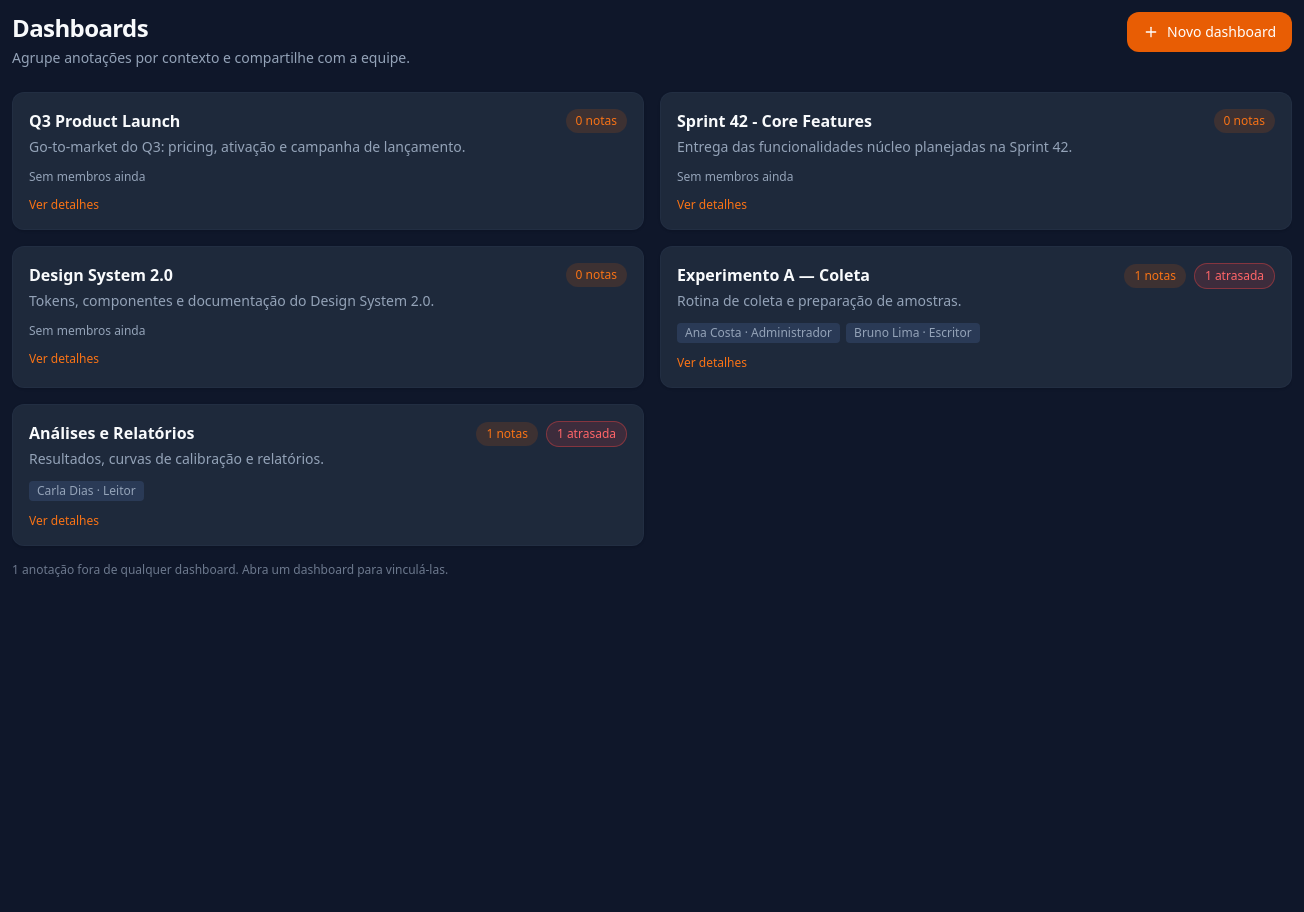
Test: Dashboards — lista de cards › abre o card, vincula uma nota e remove o vínculo
Note: No escopo de trabalho o card começa fechado: "Ver detalhes".
Click the button "Experimento A — Coleta" at (774, 275), box [677, 263, 1116, 311]
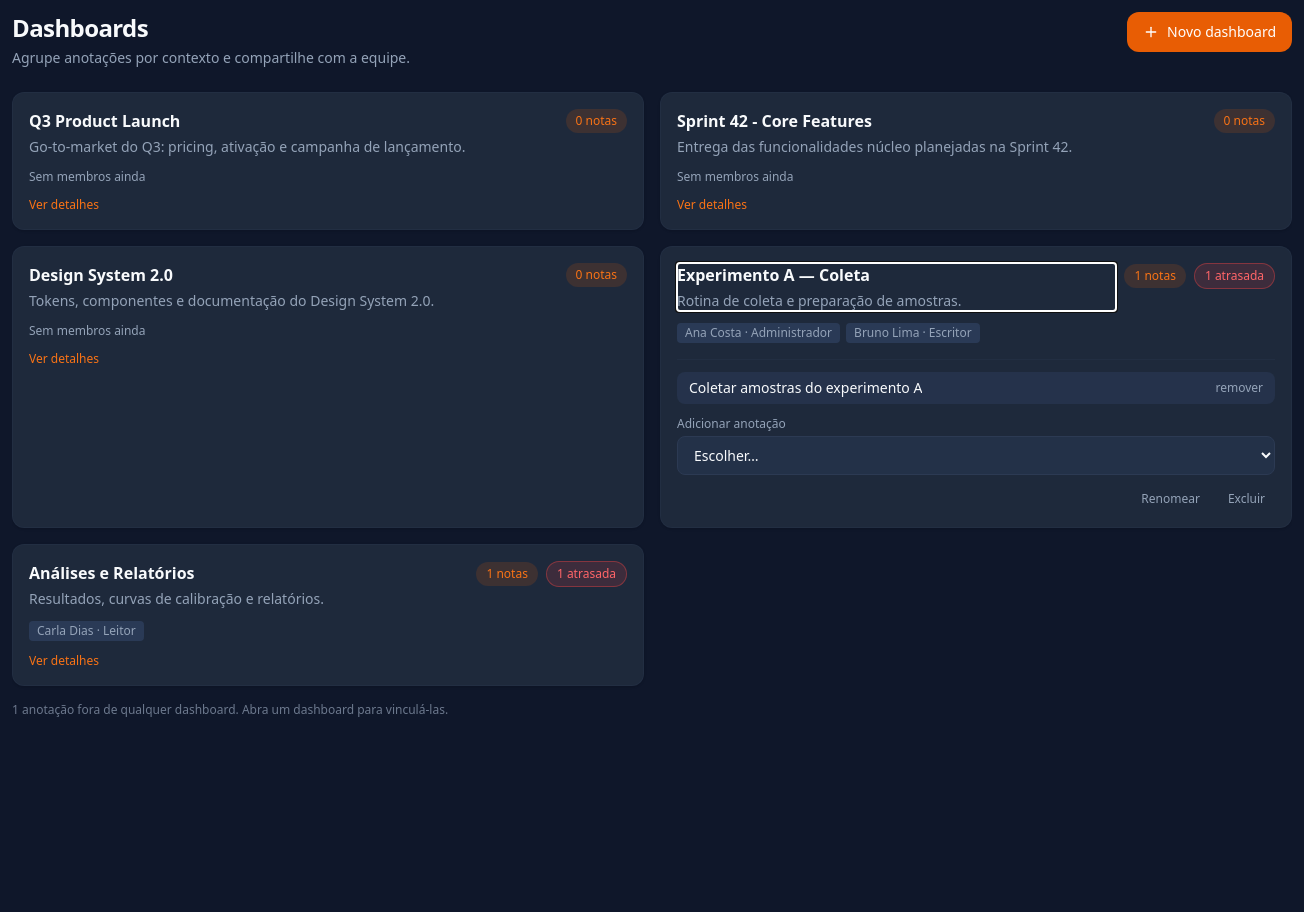
Select "Pedir reposição de reagentes" in the dropdown named "Adicionar anotação ao dashboard" at (976, 456), box [677, 436, 1275, 475]
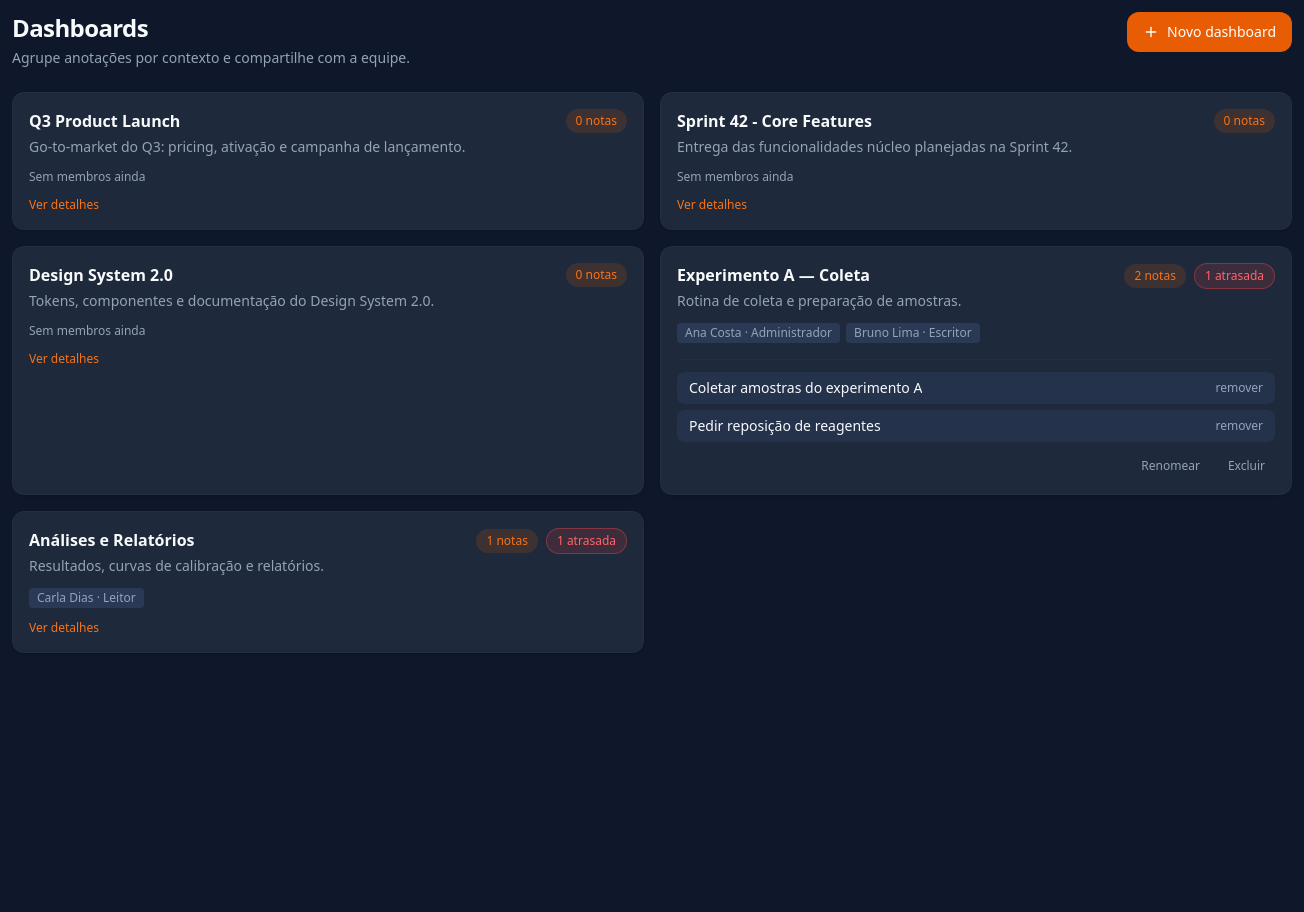
Check: the text "2 notas" is shown, box [1124, 264, 1186, 288]
Check: the text "Pedir reposição de reagentes" is shown, box [689, 416, 881, 436]
Check: the text "fora de qualquer dashboard" is gone
Click the button "remover" in the row of "Pedir reposição de reagentes" at (1239, 426), box [1216, 418, 1263, 434]
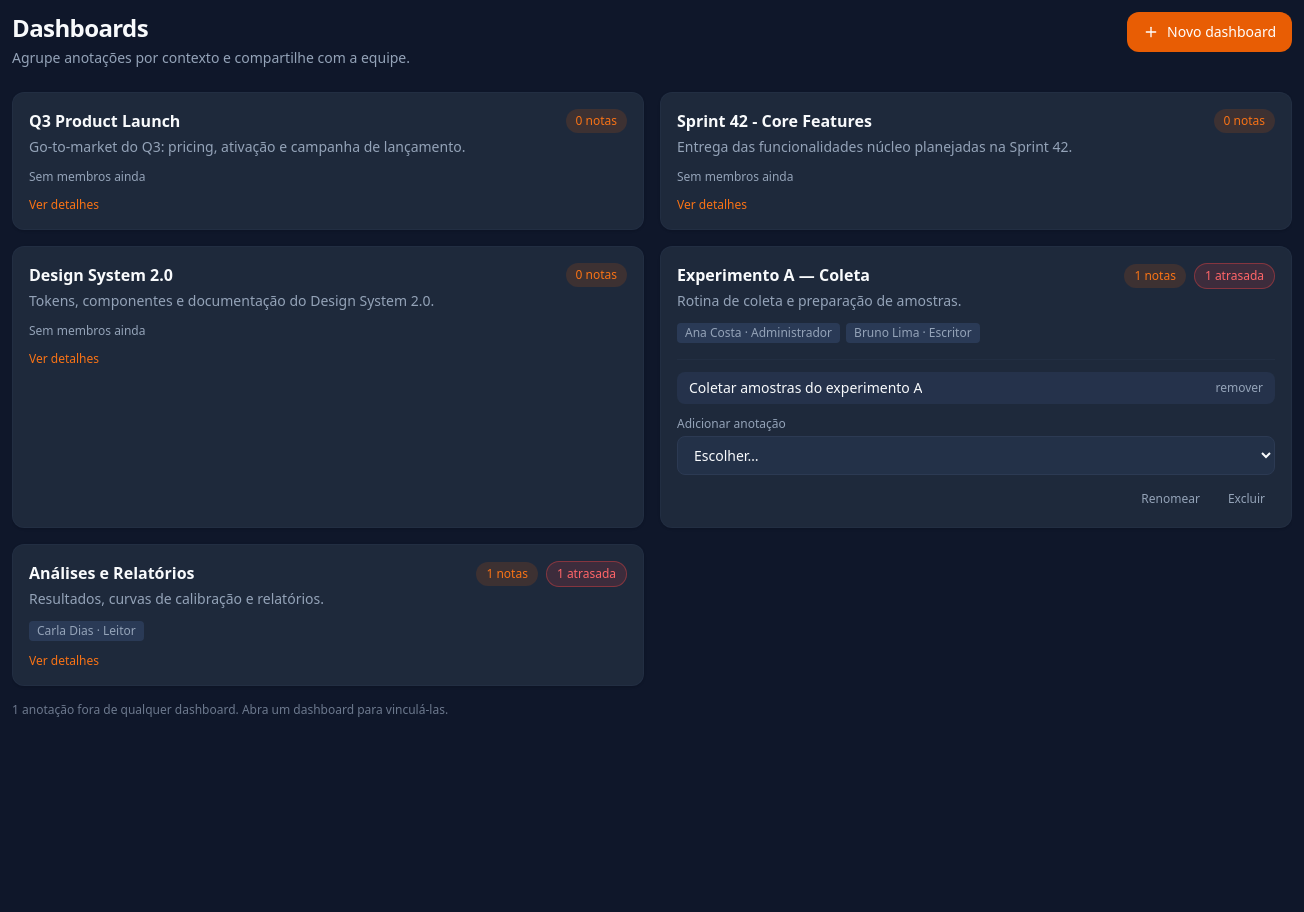
Check: the 1st text "1 notas" is shown, box [1124, 264, 1186, 288]
